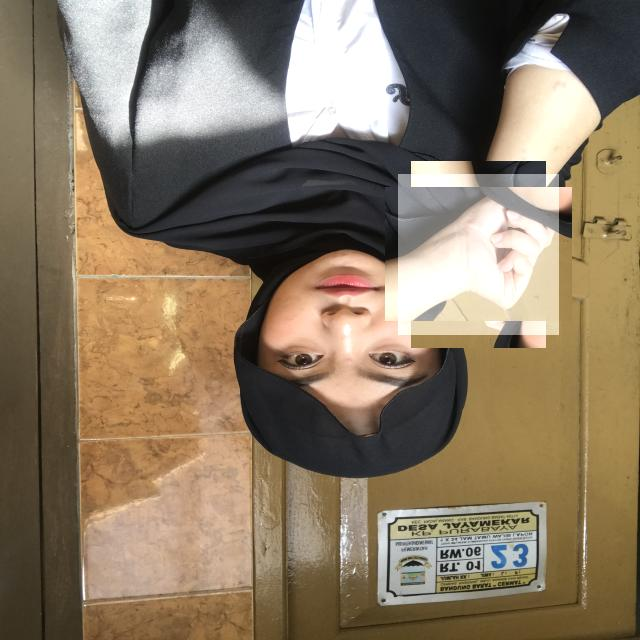ibu: (398, 174, 559, 335)
